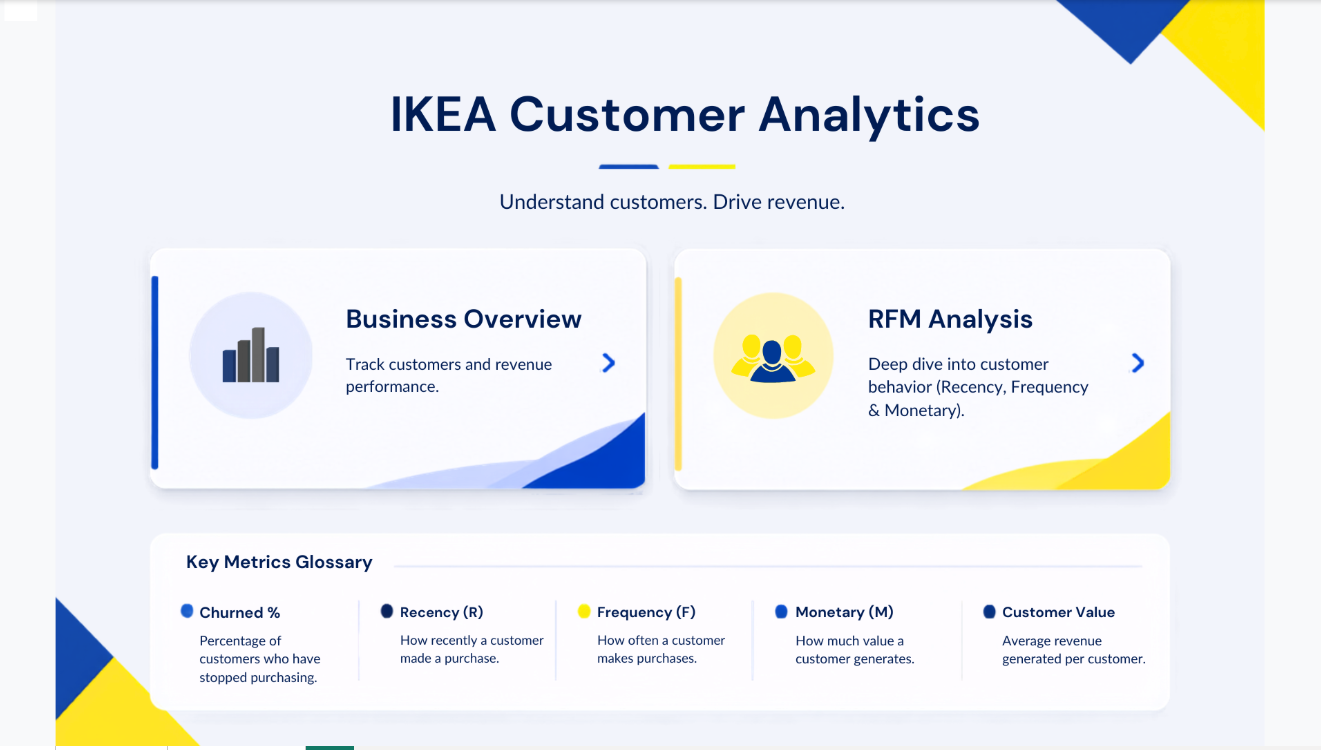

What the dashboard file says about the page in this screenshot:
{"tool":"powerbi","page":{"name":"Home Page","canvas":[1920,1080],"ordinal":0},"visuals":[{"type":"tableEx","fields":{"Values":["Sheet1.StockCode"]},"box":[10.9,0,47.1,23.5],"z":0}]}

Visuals, with their boxes in screenshot pixels (x1, y1, x2, y2), scaled from the page's 1920x1080 canvas onto the 1321x750 screenshot:
tableEx - Sheet1.StockCode: [x1=7, y1=0, x2=40, y2=16]
